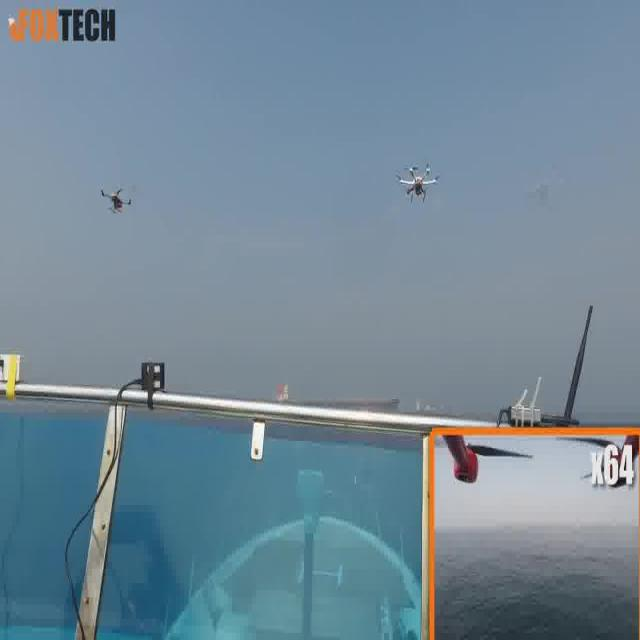Drone_FW: (393, 159, 445, 209), (99, 183, 135, 219)
